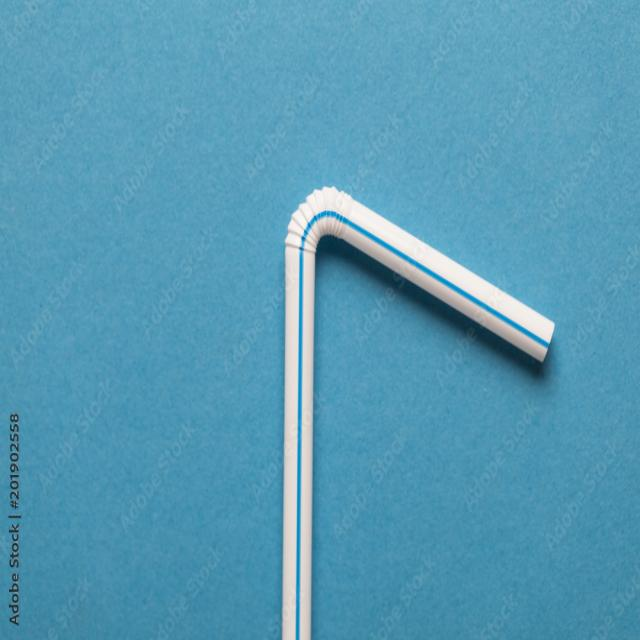plastic: (204, 148, 590, 640)
